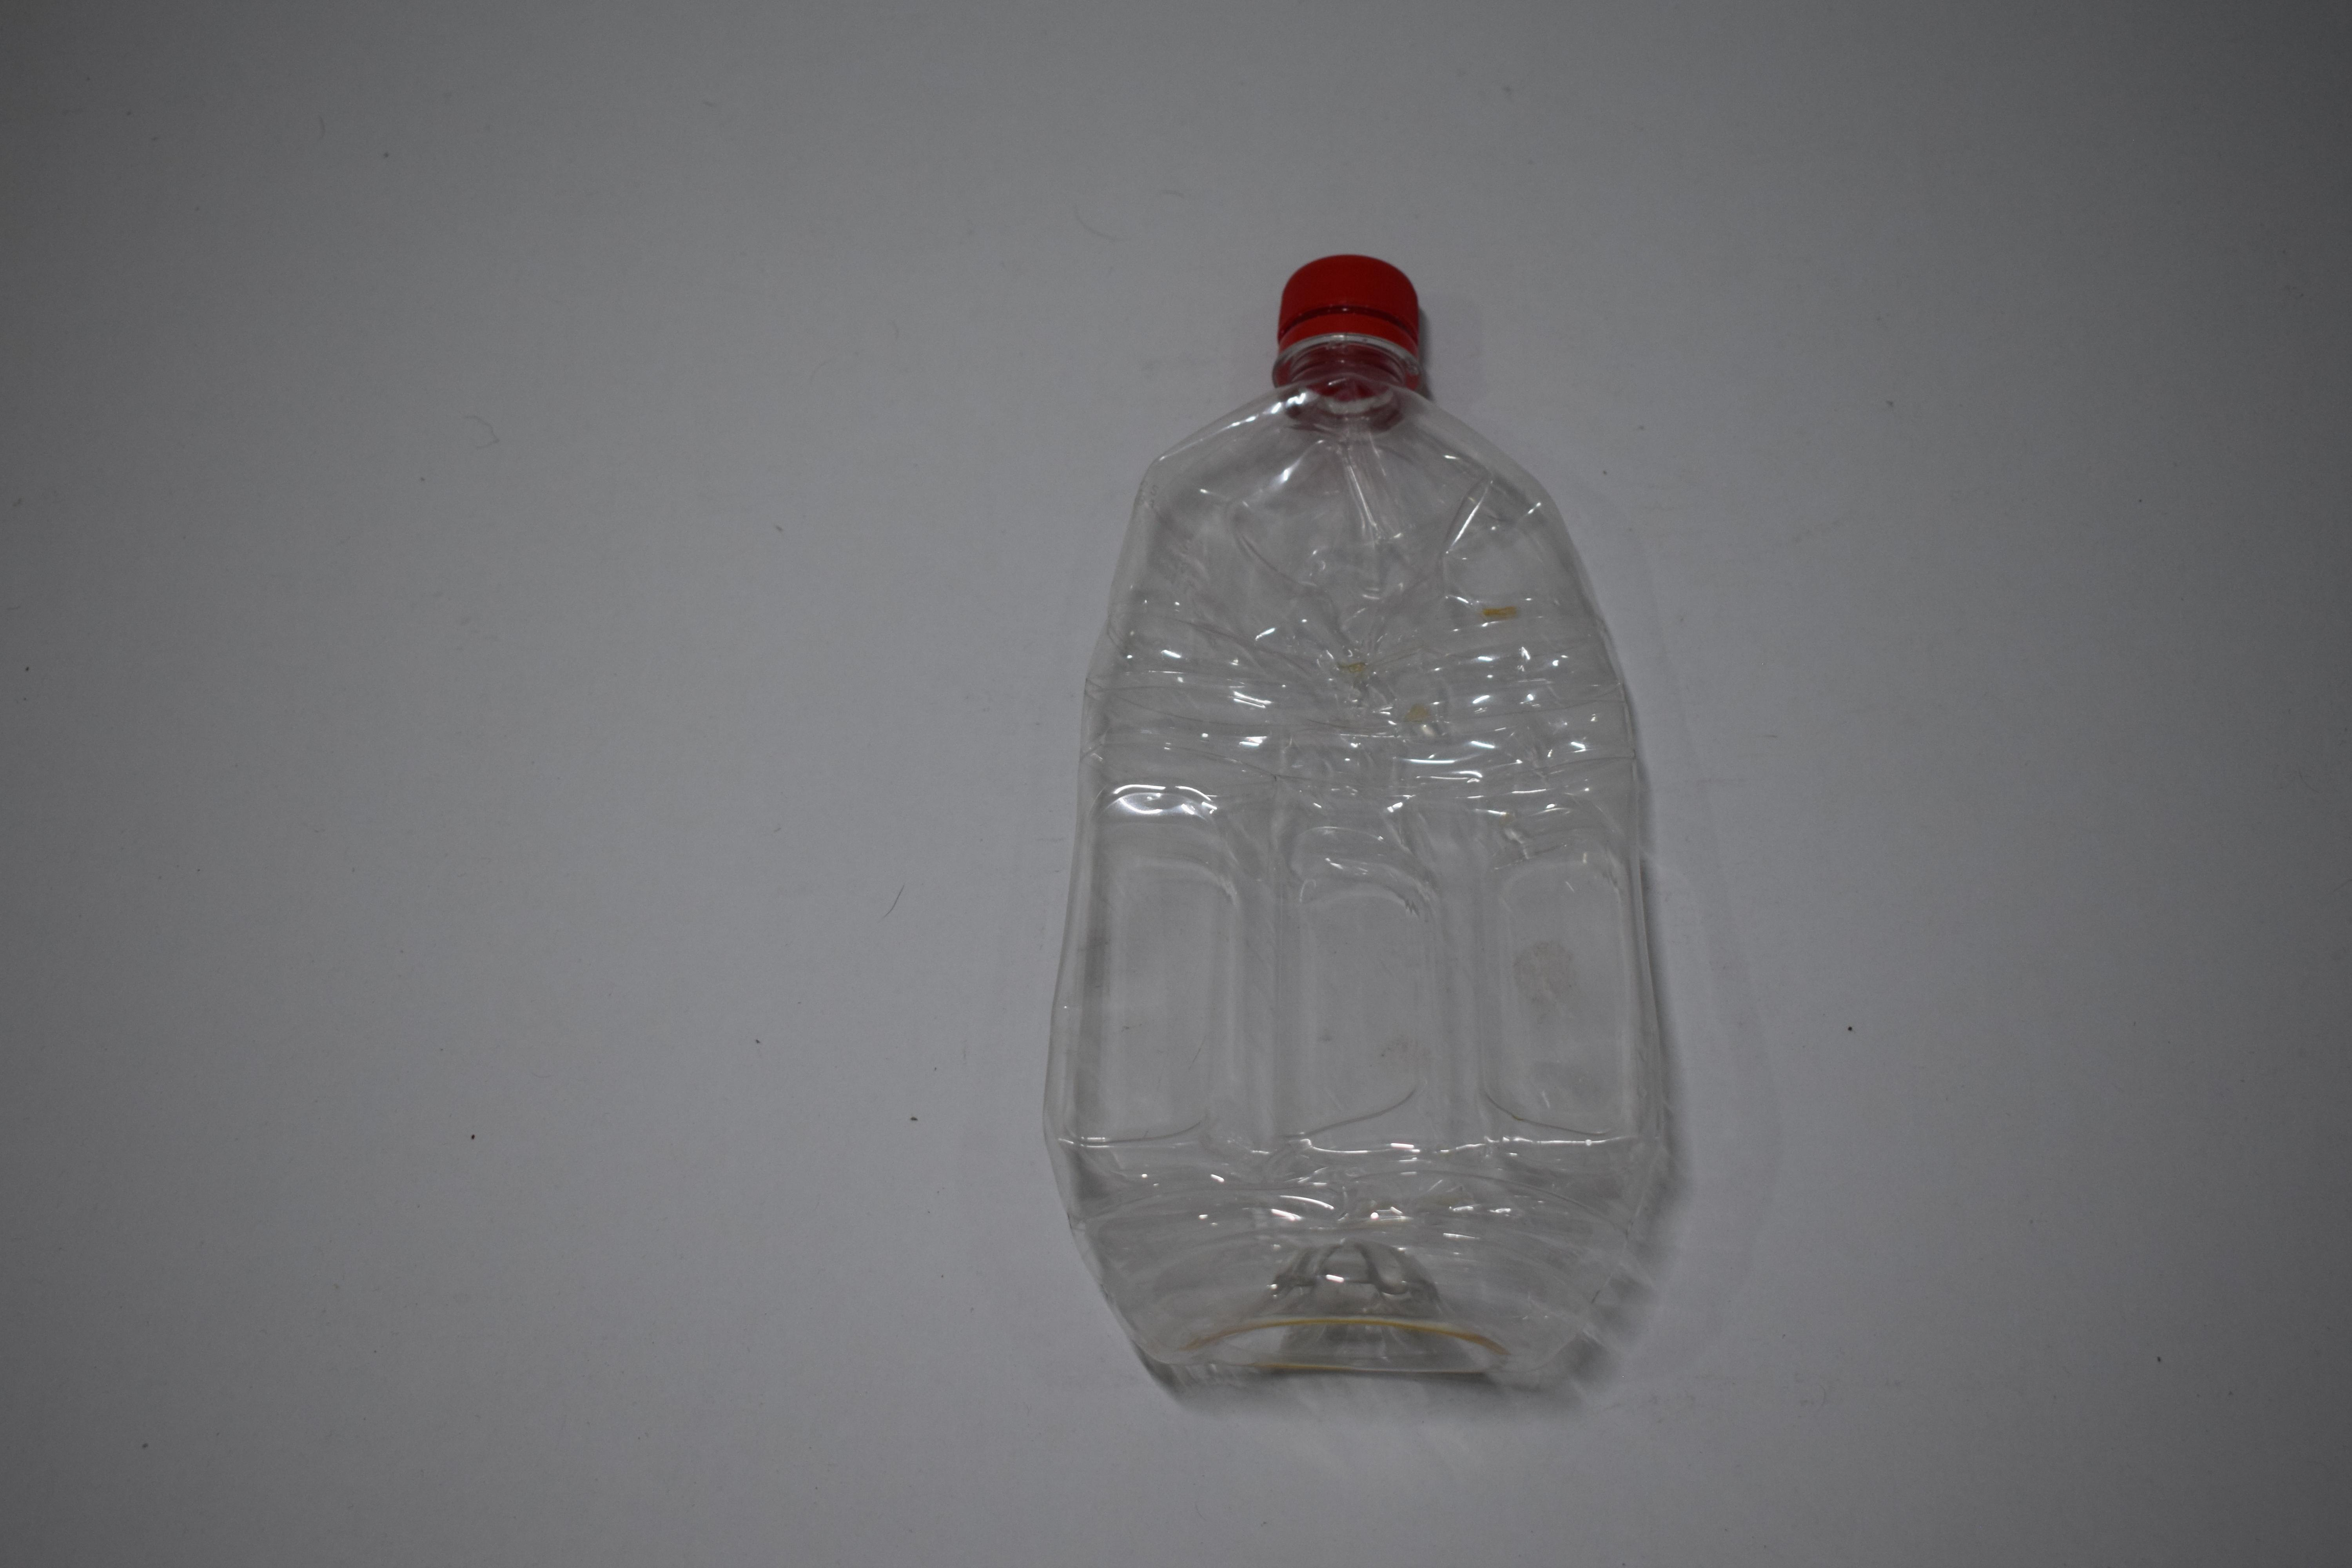bottle: (0, 0, 507, 623)
